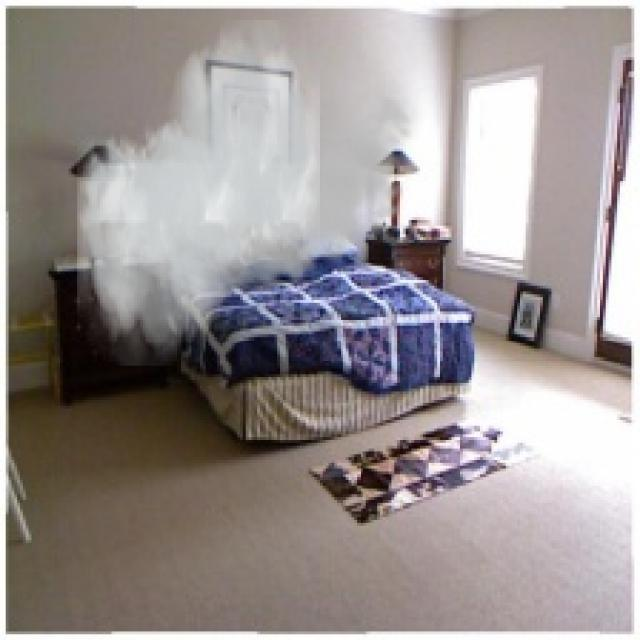Smoke: (77, 20, 423, 366)
